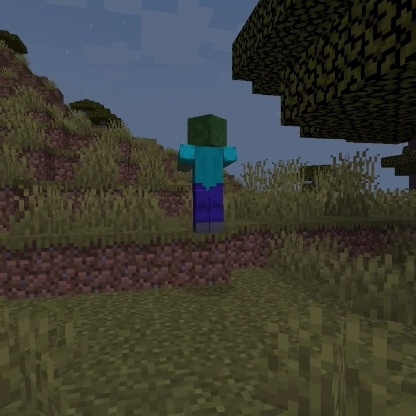zombie: (174, 112, 240, 239)
